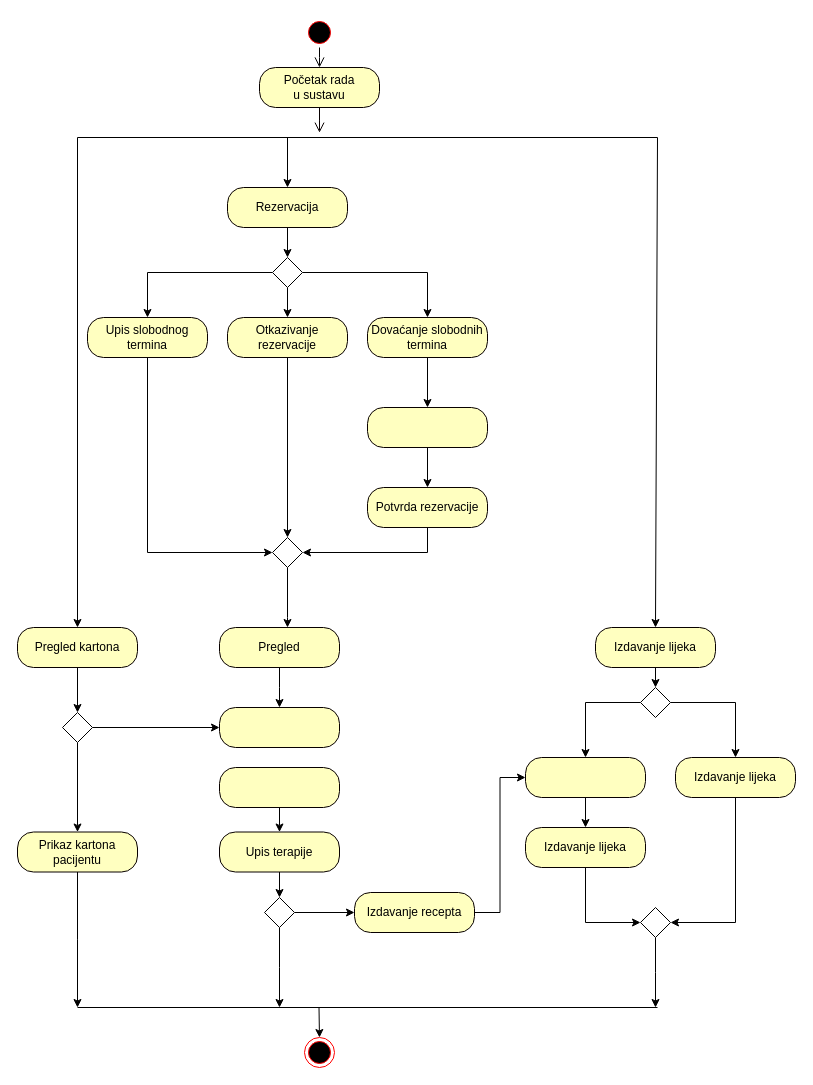
The diagram is 813 pixels wide and 1085 high, and some of its shapes have lost their labels. The shapes that lost their labels are listed below. From the top down, each one's centre as x and y in pixels, then its label:
At (x=427, y=427): "Odabir slobodnog termina".
At (x=279, y=727): "Dohvaćanje kartona pacijenta".
At (x=279, y=787): "Upis dijagnoze".
At (x=585, y=777): "Dohvaćanje recepta".
